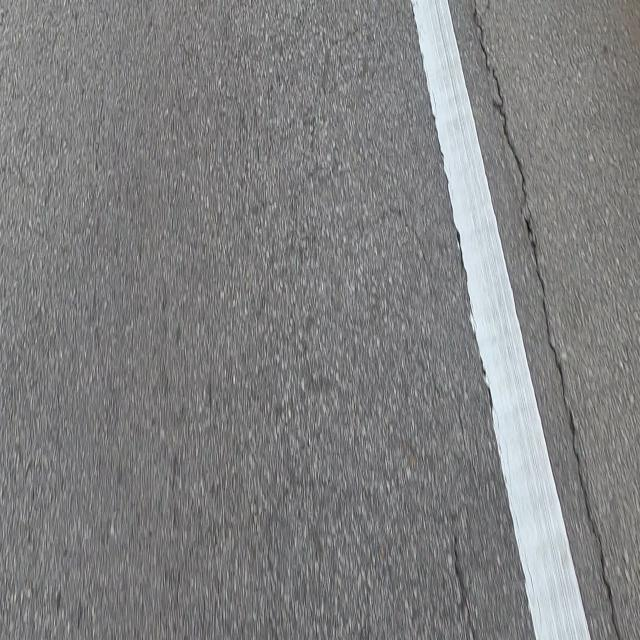Retak-Memanjang: (469, 7, 626, 640)
